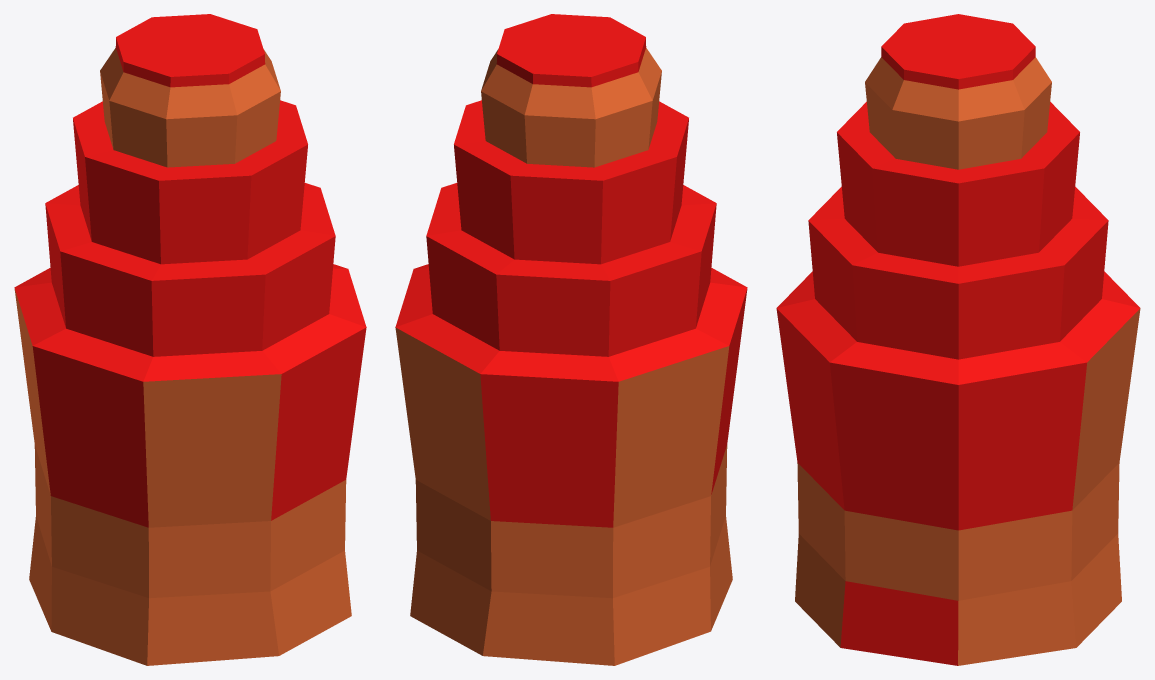
The model's file is Collider-WaterFilter.fbx.
3 renders of one model, left to right at view 1: azimuth 30°, elevation 25°; view 2: azimuth 150°, elevation 25°; view 3: azimuth 270°, elevation 25°, orthographic.
Visible parts, largest first — view 1: WaterFIlter.001; view 2: WaterFIlter.001; view 3: WaterFIlter.001.
Boxes of the visible parts, bbox=[...] form: WaterFIlter.001: bbox=[14, 14, 366, 665]; WaterFIlter.001: bbox=[395, 14, 747, 665]; WaterFIlter.001: bbox=[776, 14, 1140, 665].
Bounding box in the file's own units: 1004 × 1678 × 1004.
